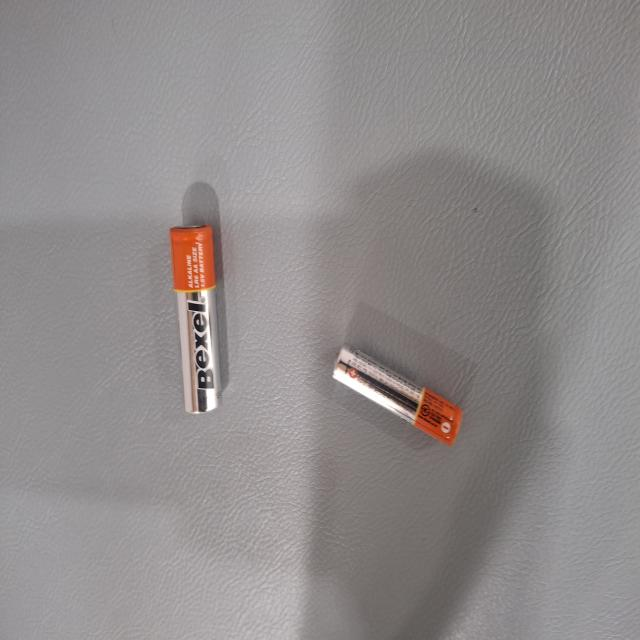AA: (418, 226, 471, 415)
AAA: (177, 195, 307, 293)
